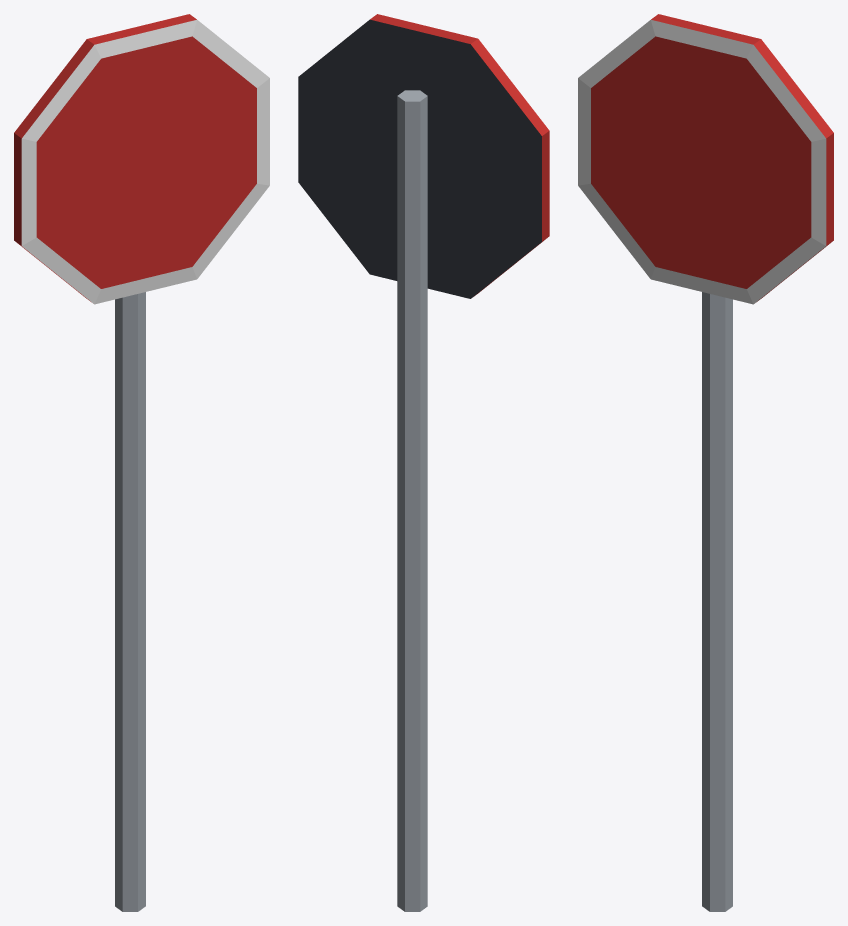
File: Stop_Sign.glb
3 views of the same model, side by side, from view 1: azimuth 30°, elevation 25°; view 2: azimuth 150°, elevation 25°; view 3: azimuth 330°, elevation 25° (orthographic).
Parts seen in each view (by area): view 1: Stop_Sign_Mesh; view 2: Stop_Sign_Mesh; view 3: Stop_Sign_Mesh.
Boxes of the visible parts, <box> form: Stop_Sign_Mesh: <box>14,14,269,911</box>; Stop_Sign_Mesh: <box>298,14,549,911</box>; Stop_Sign_Mesh: <box>578,14,833,911</box>.
Bounding box in the file's own units: 0.7391 × 2.52 × 0.125.
Materials: 1 (1 with a texture image).
